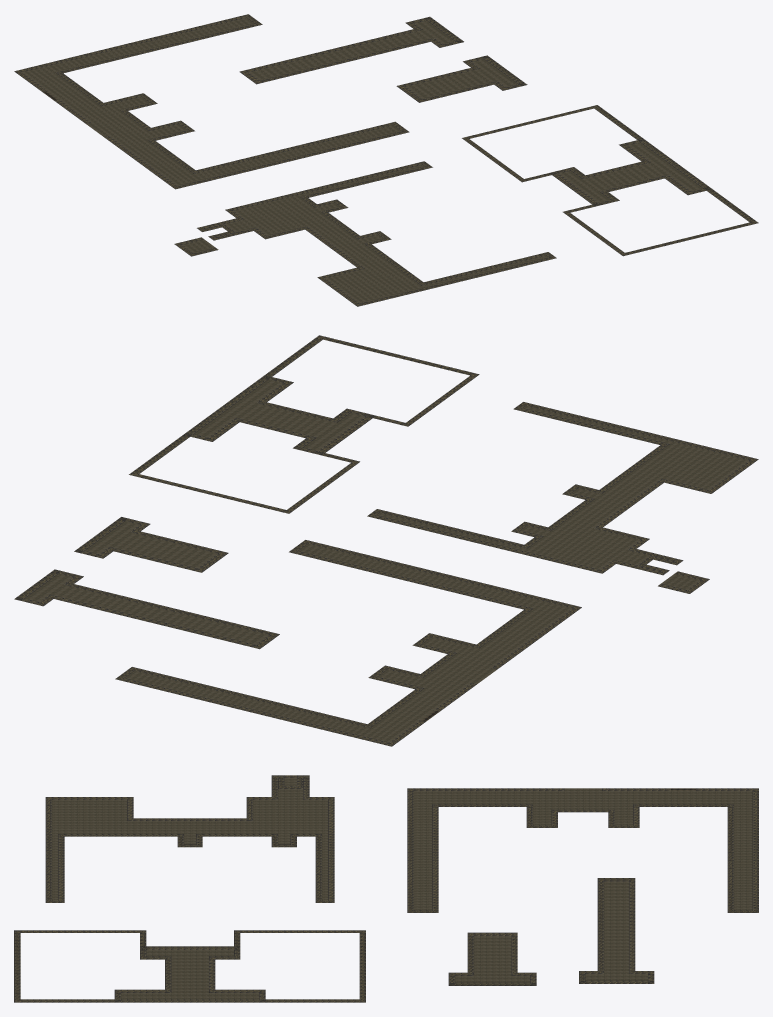
File: EnvMdrMD_Desert_Exterior_GroundSide_A.FBX
3 renders of one model, top to bottom at view 1: azimuth 30°, elevation 25°; view 2: azimuth 150°, elevation 25°; view 3: azimuth 270°, elevation 25°, orthographic. The views are drawn at different scales.
Visible parts, largest first — view 1: EnvMdrMD_Desert_Exterior_GroundSide_B, EnvMdrMD_Desert_Exterior_GroundSide_A, EnvMdrMD_Desert_Exterior_GroundSide_C, EnvMdrMD_Desert_Exterior_GroundSide_E, EnvMdrMD_Desert_Exterior_GroundSide_D; view 2: EnvMdrMD_Desert_Exterior_GroundSide_B, EnvMdrMD_Desert_Exterior_GroundSide_A, EnvMdrMD_Desert_Exterior_GroundSide_C, EnvMdrMD_Desert_Exterior_GroundSide_E, EnvMdrMD_Desert_Exterior_GroundSide_D; view 3: EnvMdrMD_Desert_Exterior_GroundSide_B, EnvMdrMD_Desert_Exterior_GroundSide_A, EnvMdrMD_Desert_Exterior_GroundSide_C, EnvMdrMD_Desert_Exterior_GroundSide_E, EnvMdrMD_Desert_Exterior_GroundSide_D.
Boxes of the visible parts, x1,y1,x2,y2 form: EnvMdrMD_Desert_Exterior_GroundSide_B: (14, 14, 409, 189); EnvMdrMD_Desert_Exterior_GroundSide_A: (174, 161, 556, 306); EnvMdrMD_Desert_Exterior_GroundSide_C: (462, 105, 758, 256); EnvMdrMD_Desert_Exterior_GroundSide_E: (239, 16, 463, 84); EnvMdrMD_Desert_Exterior_GroundSide_D: (396, 55, 527, 102); EnvMdrMD_Desert_Exterior_GroundSide_B: (115, 540, 581, 746); EnvMdrMD_Desert_Exterior_GroundSide_A: (367, 402, 758, 593); EnvMdrMD_Desert_Exterior_GroundSide_C: (129, 335, 479, 513); EnvMdrMD_Desert_Exterior_GroundSide_E: (14, 569, 279, 649); EnvMdrMD_Desert_Exterior_GroundSide_D: (74, 517, 228, 572); EnvMdrMD_Desert_Exterior_GroundSide_B: (407, 788, 758, 912); EnvMdrMD_Desert_Exterior_GroundSide_A: (45, 775, 334, 902); EnvMdrMD_Desert_Exterior_GroundSide_C: (14, 930, 365, 1002); EnvMdrMD_Desert_Exterior_GroundSide_E: (579, 878, 654, 983); EnvMdrMD_Desert_Exterior_GroundSide_D: (448, 932, 536, 985).
Size of the model in its own units: 9005 by 200 by 11862.
4 materials, 4 textured.
